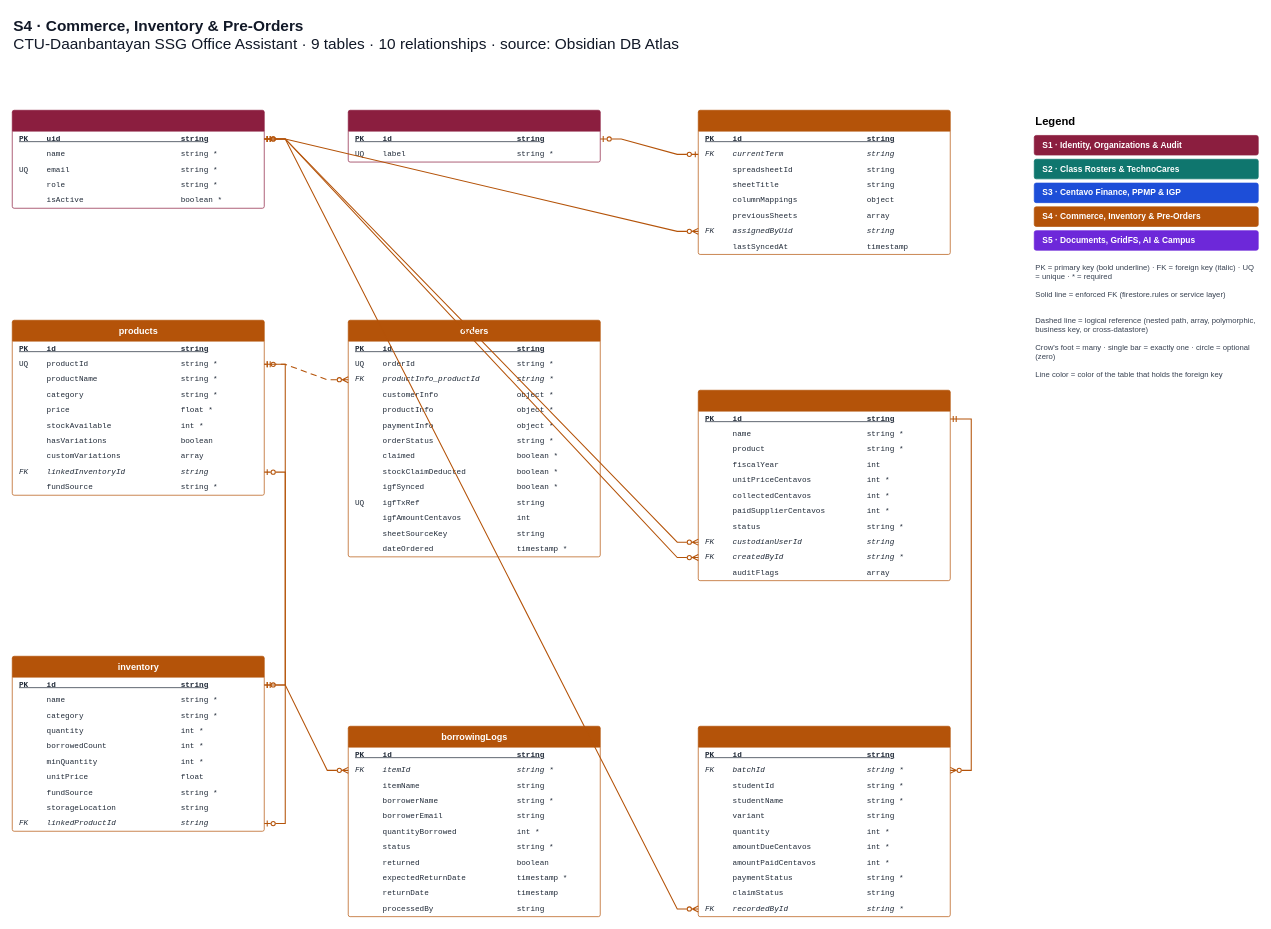
The diagram is 1271 pixels wide and 929 high, and some of its shapes have lost their labels. The shapes that lost their labels are listed below. From the top down, each one's box as (x1, y1, x2, y2) in pixels, then its label:
(348, 110, 600, 162): terms
(12, 110, 264, 208): users
(698, 110, 950, 254): settings
(698, 390, 950, 581): preOrderBatches
(698, 726, 950, 917): preOrderEntries
